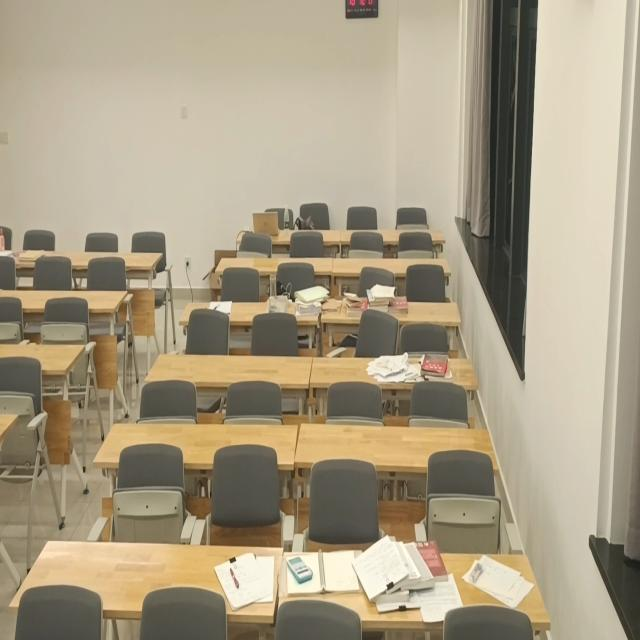Non-empty: (280, 550, 550, 629), (13, 538, 283, 617), (311, 351, 478, 393), (179, 295, 324, 325), (317, 297, 463, 325), (215, 252, 331, 271), (234, 227, 338, 242), (0, 244, 45, 262)
empty: (294, 425, 499, 472), (95, 422, 297, 466), (144, 349, 315, 385), (36, 249, 163, 273), (330, 253, 451, 276), (5, 288, 128, 307), (340, 227, 447, 247)
